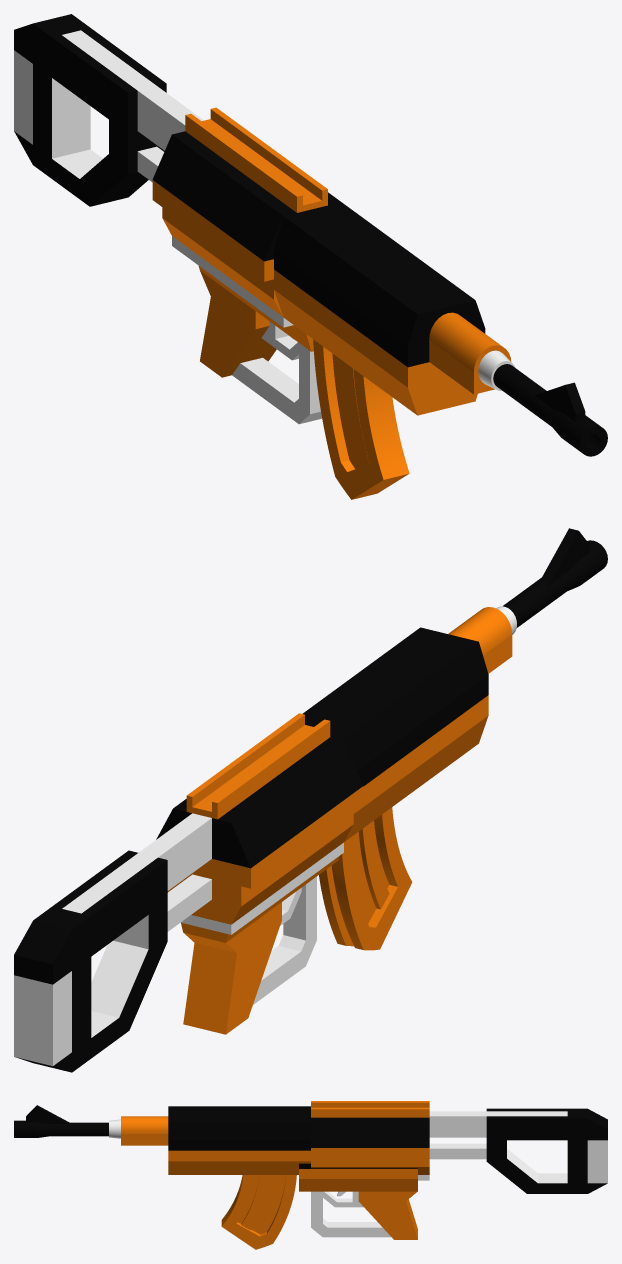
The model's file is Gun.fbx.
3 views of the same model, one above another, from view 1: azimuth 30°, elevation 25°; view 2: azimuth 150°, elevation 25°; view 3: azimuth 270°, elevation 25° (orthographic). The views are drawn at different scales.
Visible parts, largest first — view 1: mergedBlocks; view 2: mergedBlocks; view 3: mergedBlocks.
Boxes of the visible parts, bbox=[...] form: mergedBlocks: bbox=[14, 14, 607, 499]; mergedBlocks: bbox=[14, 528, 607, 1072]; mergedBlocks: bbox=[14, 1101, 607, 1249].
Size of the model in its own units: 5 by 13.13 by 50.
